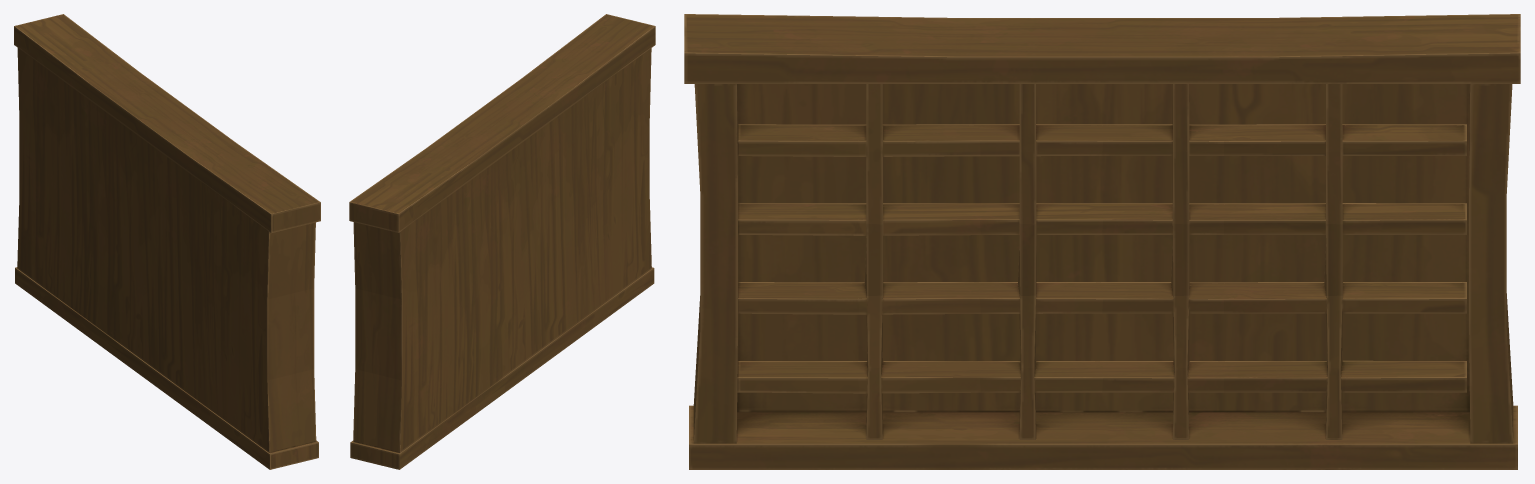
Rendered from SM_StorageShelf.fbx.
The picture shows the model from 3 angles, left to right: view 1: azimuth 30°, elevation 25°; view 2: azimuth 150°, elevation 25°; view 3: azimuth 270°, elevation 25°; orthographic projection. The views are drawn at different scales.
Visible parts, largest first — view 1: StorageShelf_low, StorageShelfCover_low, StorageShelfLow_low; view 2: StorageShelf_low, StorageShelfCover_low, StorageShelfLow_low; view 3: StorageShelf_low, StorageShelfInHor_low, StorageShelfCover_low, StorageShelfLow_low, StorageShelfInVer_low.
Boxes of the visible parts, bbox=[...] form: StorageShelf_low: bbox=[17, 48, 316, 452]; StorageShelfCover_low: bbox=[14, 14, 320, 233]; StorageShelfLow_low: bbox=[15, 267, 318, 469]; StorageShelf_low: bbox=[353, 48, 651, 452]; StorageShelfCover_low: bbox=[349, 14, 655, 232]; StorageShelfLow_low: bbox=[350, 267, 654, 469]; StorageShelf_low: bbox=[693, 84, 1513, 443]; StorageShelfInHor_low: bbox=[737, 124, 1466, 393]; StorageShelfCover_low: bbox=[684, 14, 1520, 83]; StorageShelfLow_low: bbox=[689, 405, 1517, 469]; StorageShelfInVer_low: bbox=[864, 84, 1342, 439].
Bounding box in the file's own units: 0.9673 × 4.78 × 8.69.
